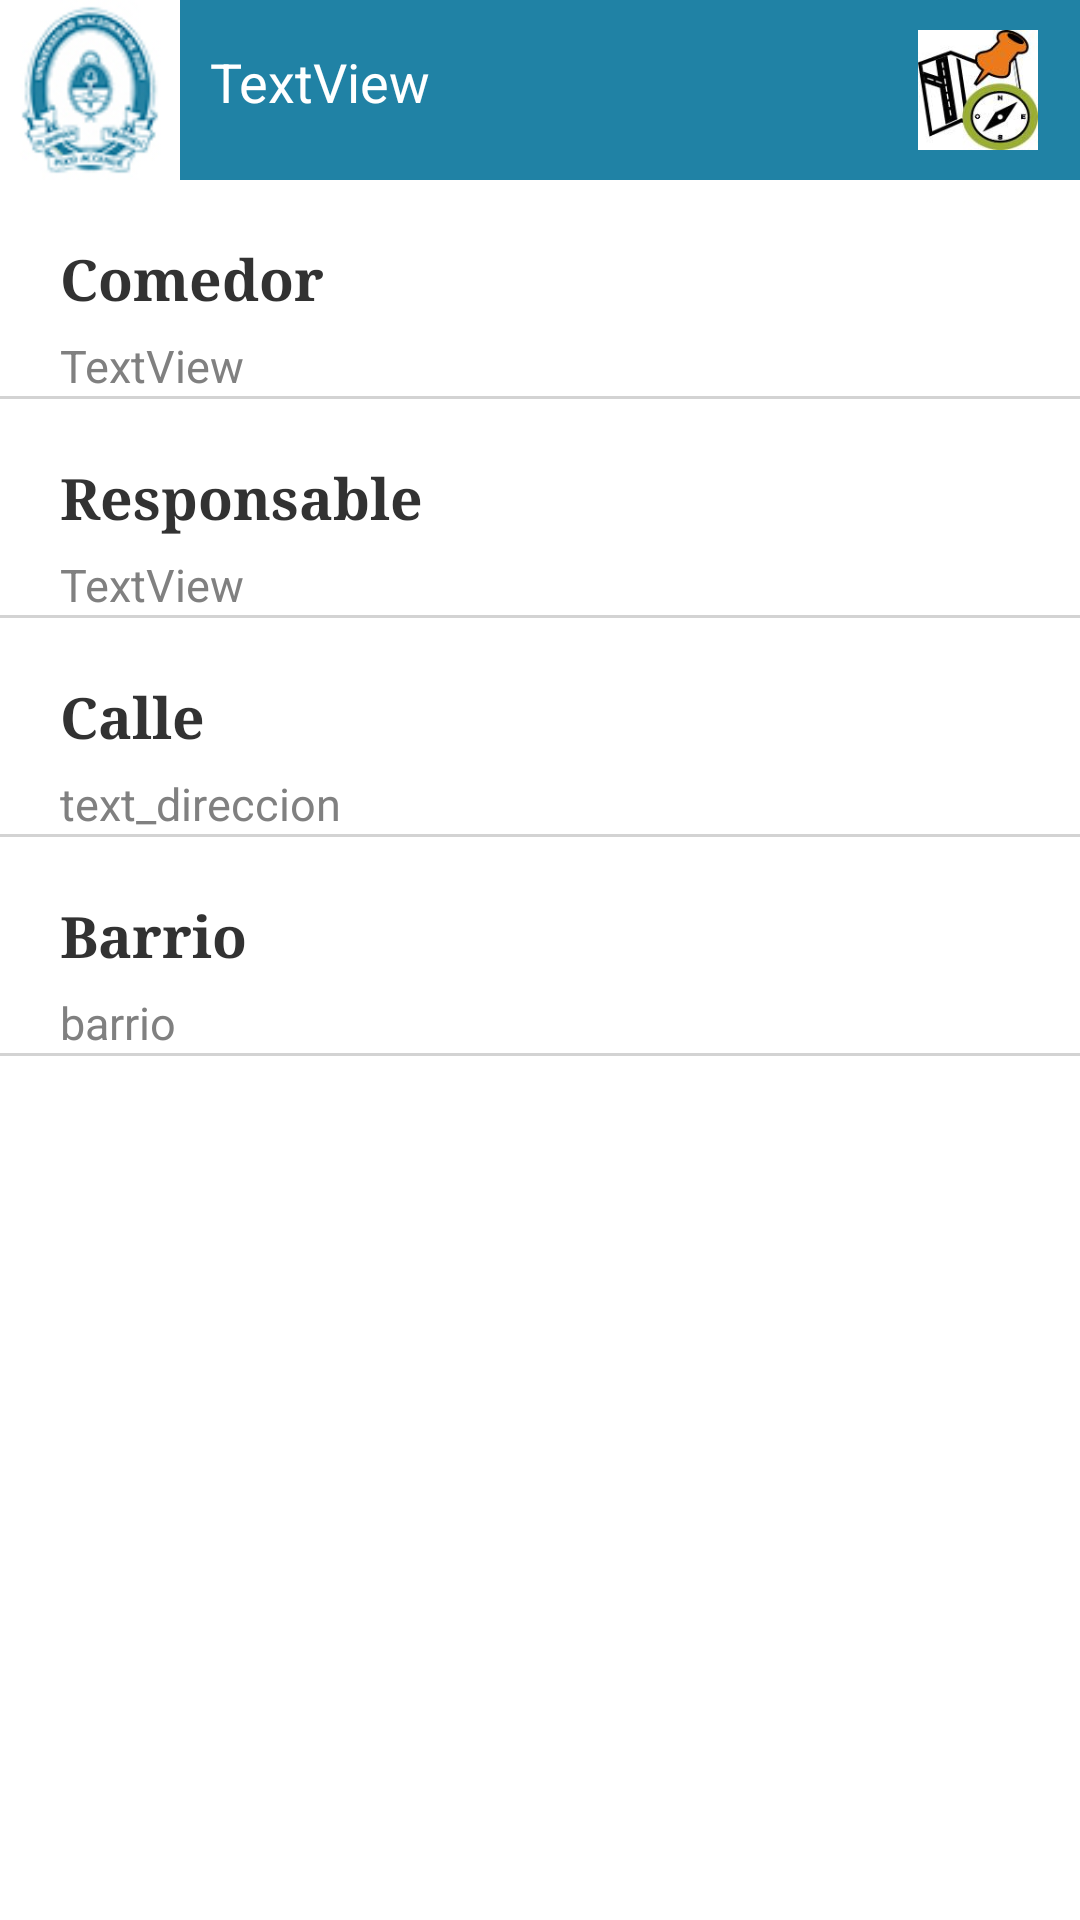

Point at icon controls on the screen. Image size 1080w x 1920h, points as (x,y).
mapa comedor: (978,90)
